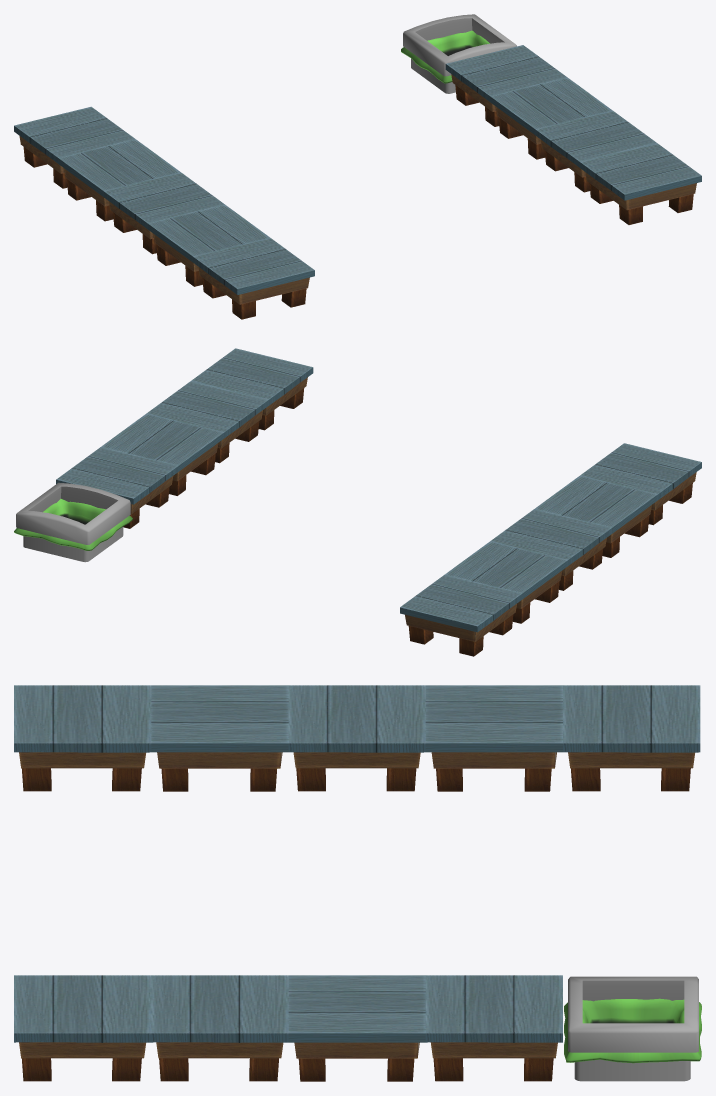
File: Sliding_Counters.fbx
3 views of the same model, one above another, from view 1: azimuth 30°, elevation 25°; view 2: azimuth 150°, elevation 25°; view 3: azimuth 270°, elevation 25° (orthographic). The views are drawn at different scales.
Parts seen in each view (by area): view 1: Worktop (×9), Cube; view 2: Worktop (×9), Cube; view 3: Worktop (×9), Cube.
Boxes of the visible parts, bbox=[...] form: Worktop (×9): bbox=[14, 45, 701, 319]; Cube: bbox=[401, 14, 516, 93]; Worktop (×9): bbox=[56, 348, 701, 656]; Cube: bbox=[14, 482, 132, 562]; Worktop (×9): bbox=[14, 685, 700, 1081]; Cube: bbox=[564, 976, 701, 1081].
Bounding box in the file's own units: 7.2 × 0.5692 × 6.02.
2 materials, 2 textured.
